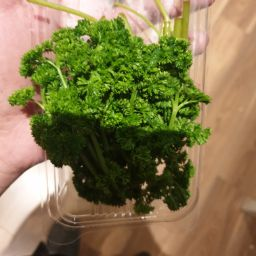Parsley: (2, 53, 134, 200), (36, 1, 196, 121), (56, 119, 189, 218), (39, 27, 163, 127), (124, 46, 210, 180), (15, 25, 71, 146)
